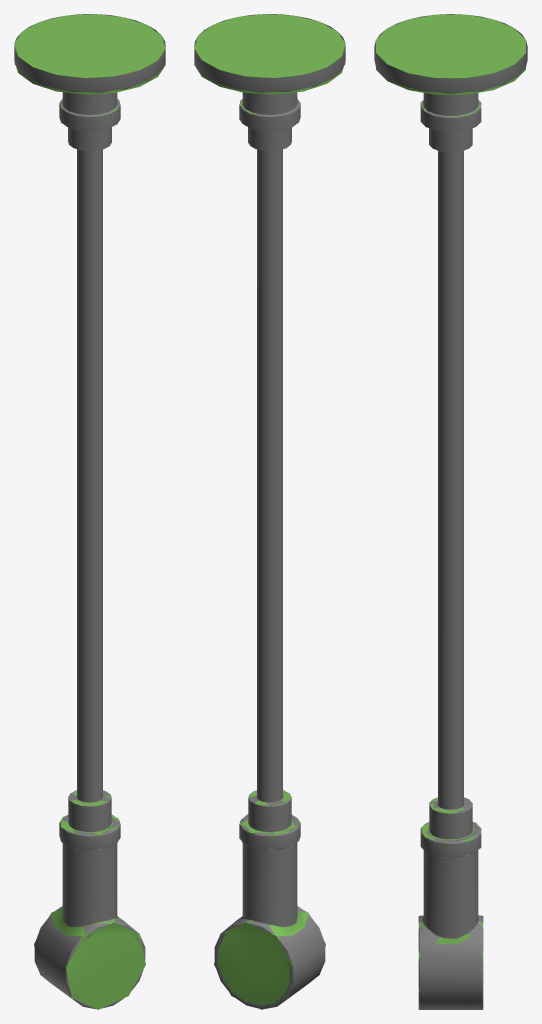
File: PipeSetHangingSupport_01_Mesh.fbx
3 views of the same model, side by side, from view 1: azimuth 30°, elevation 25°; view 2: azimuth 150°, elevation 25°; view 3: azimuth 270°, elevation 25° (orthographic).
Parts seen in each view (by area): view 1: PipeSet_HangingSupport_01_LOD0, PipeSet_HangingSupport_01_Col; view 2: PipeSet_HangingSupport_01_LOD0, PipeSet_HangingSupport_01_Col; view 3: PipeSet_HangingSupport_01_LOD0, PipeSet_HangingSupport_01_Col.
Part boxes in pixels (box(x1,y1,x2,y2)): PipeSet_HangingSupport_01_LOD0: box(14, 14, 165, 1009); PipeSet_HangingSupport_01_Col: box(14, 14, 165, 1009); PipeSet_HangingSupport_01_LOD0: box(194, 14, 345, 1009); PipeSet_HangingSupport_01_Col: box(194, 14, 345, 1009); PipeSet_HangingSupport_01_LOD0: box(374, 14, 527, 1009); PipeSet_HangingSupport_01_Col: box(376, 14, 525, 1009).
Size of what is drawn, in the model's own units: 9.3 by 64.24 by 9.3.
